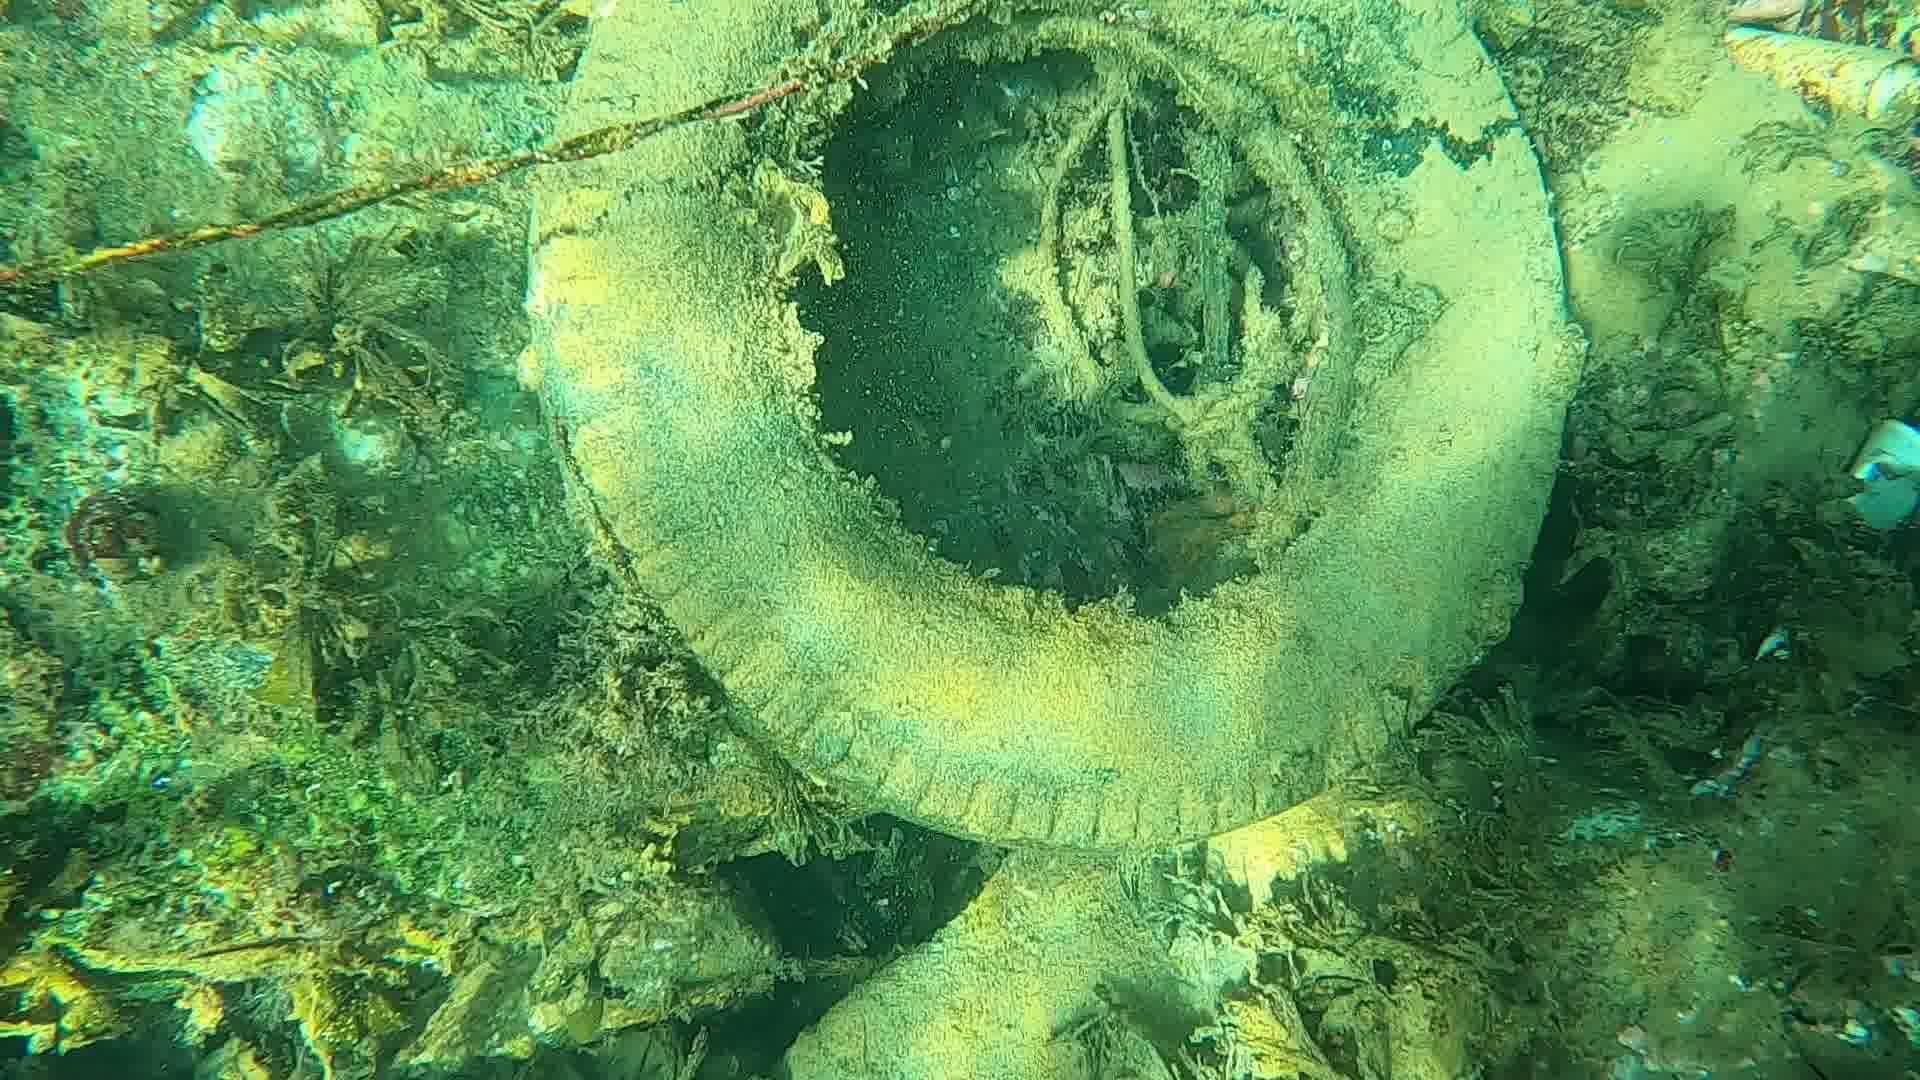tire: (506, 3, 1575, 843)
